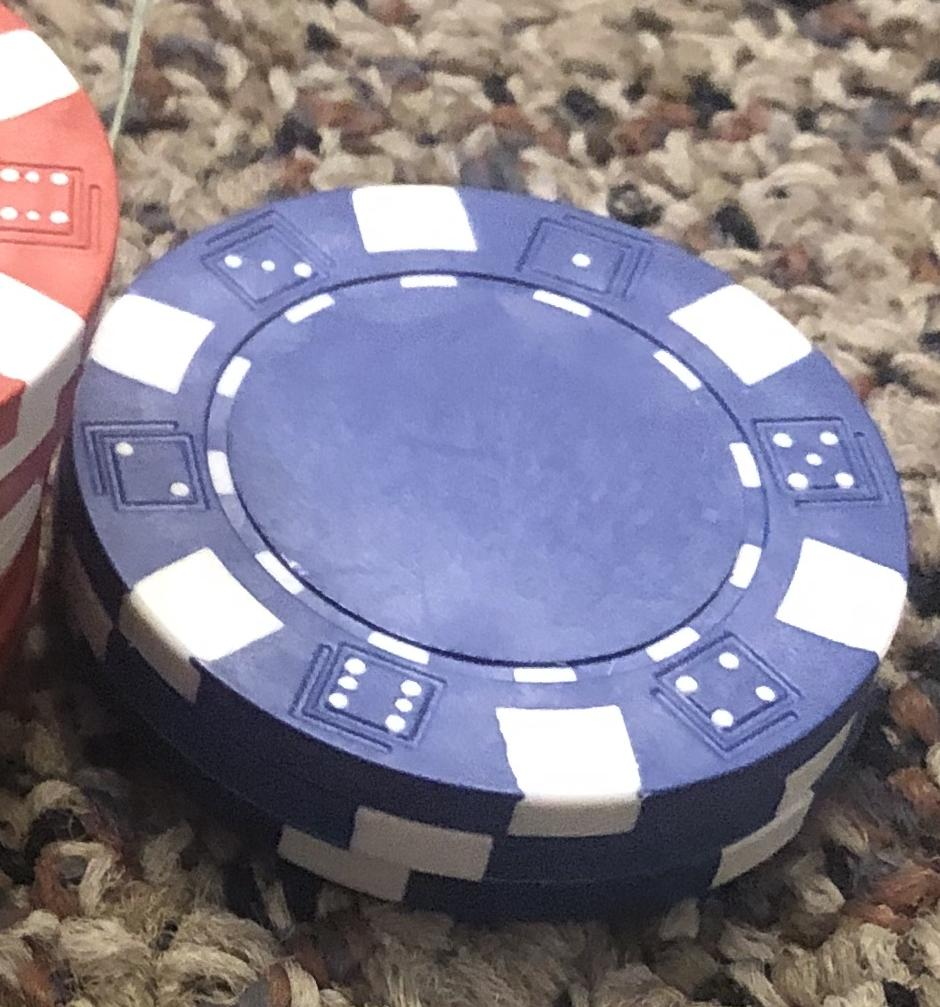Chip: (1, 1, 940, 1007)
